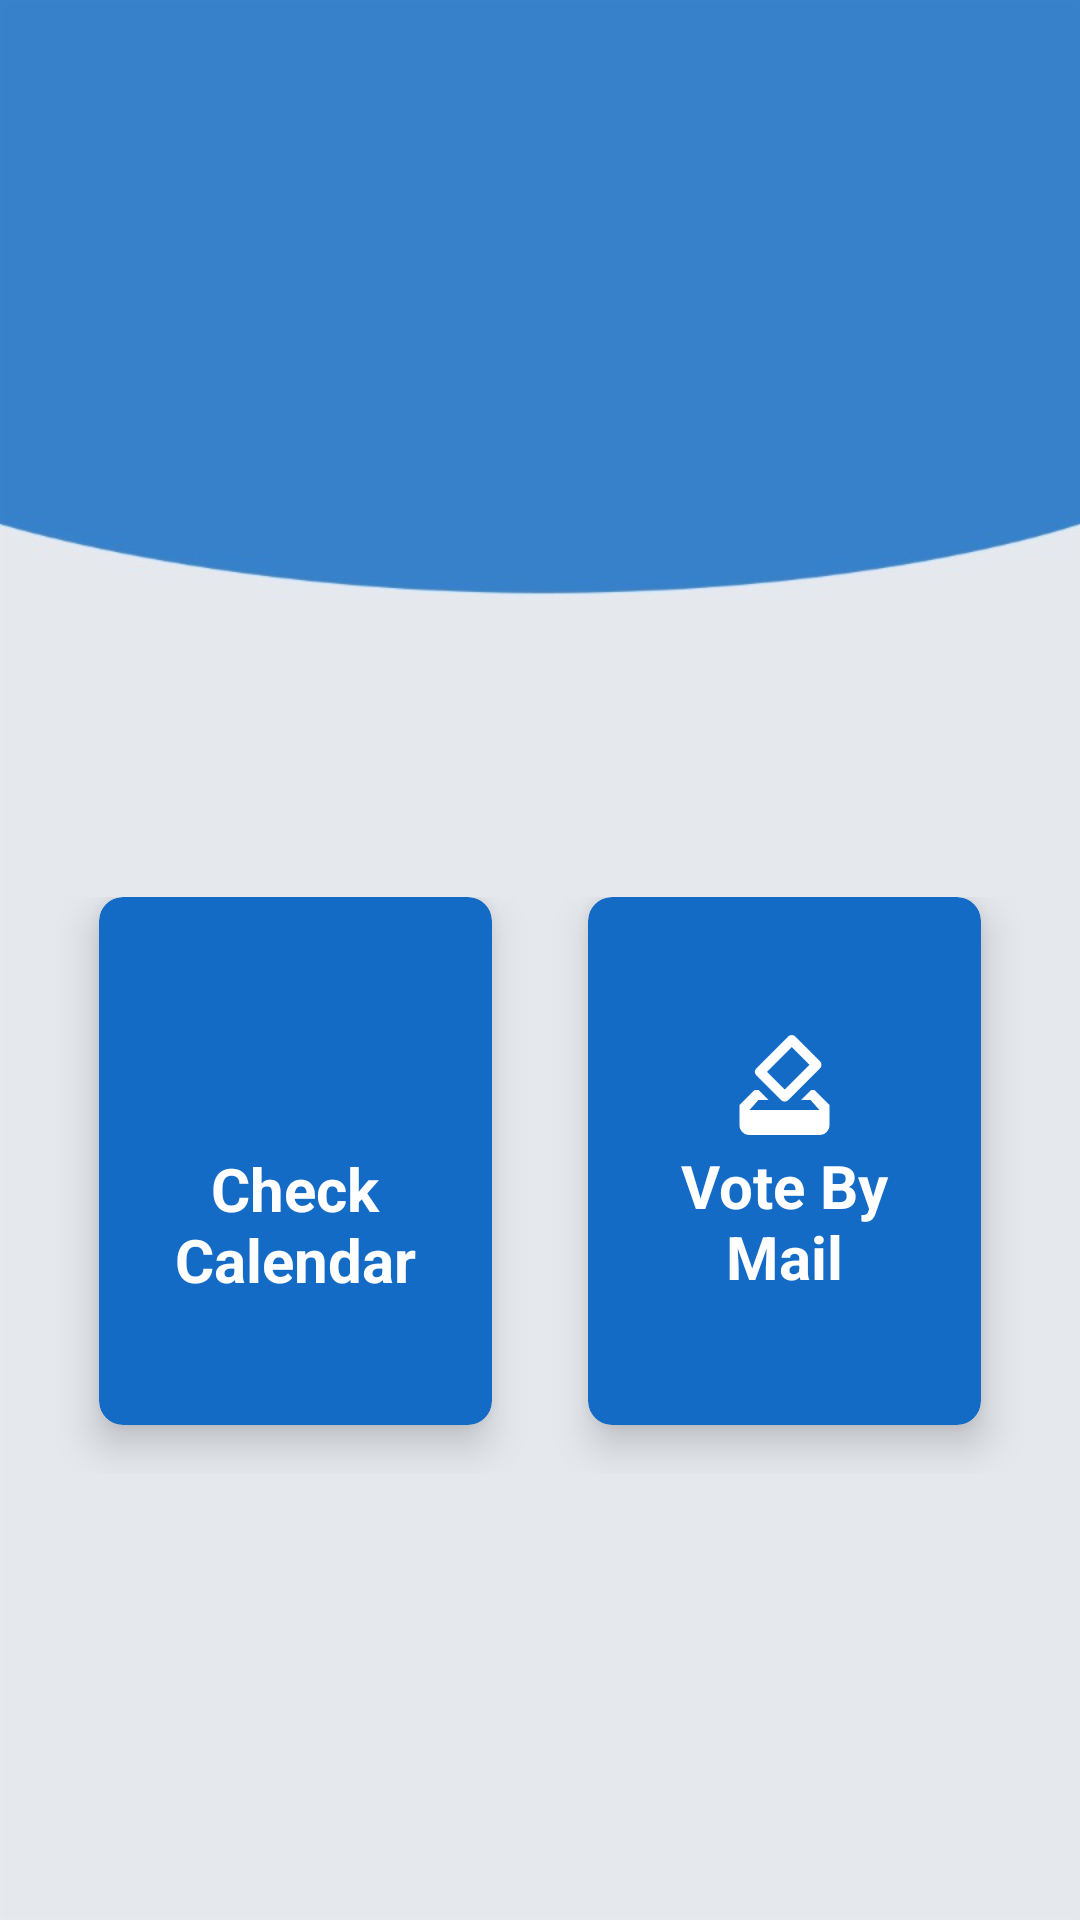

Screen size 1080px×1920px. Icon name, then its center in pixels as (x=x, y=y):
how to vote: (x=784, y=1085)
